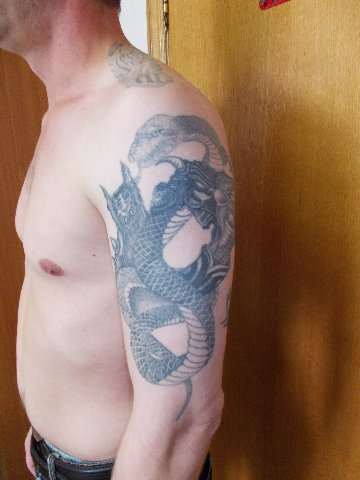tatu7_zmeya: (117, 104, 238, 417)
